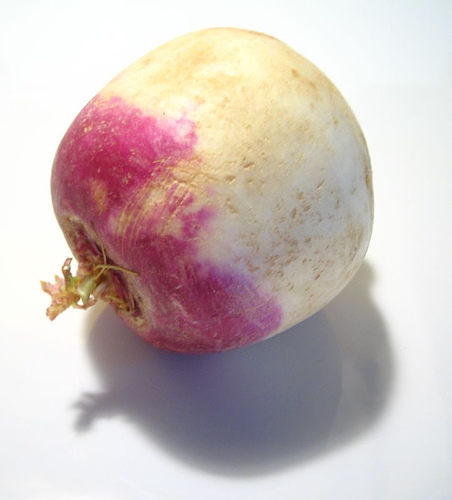turnip: (37, 25, 375, 356)
